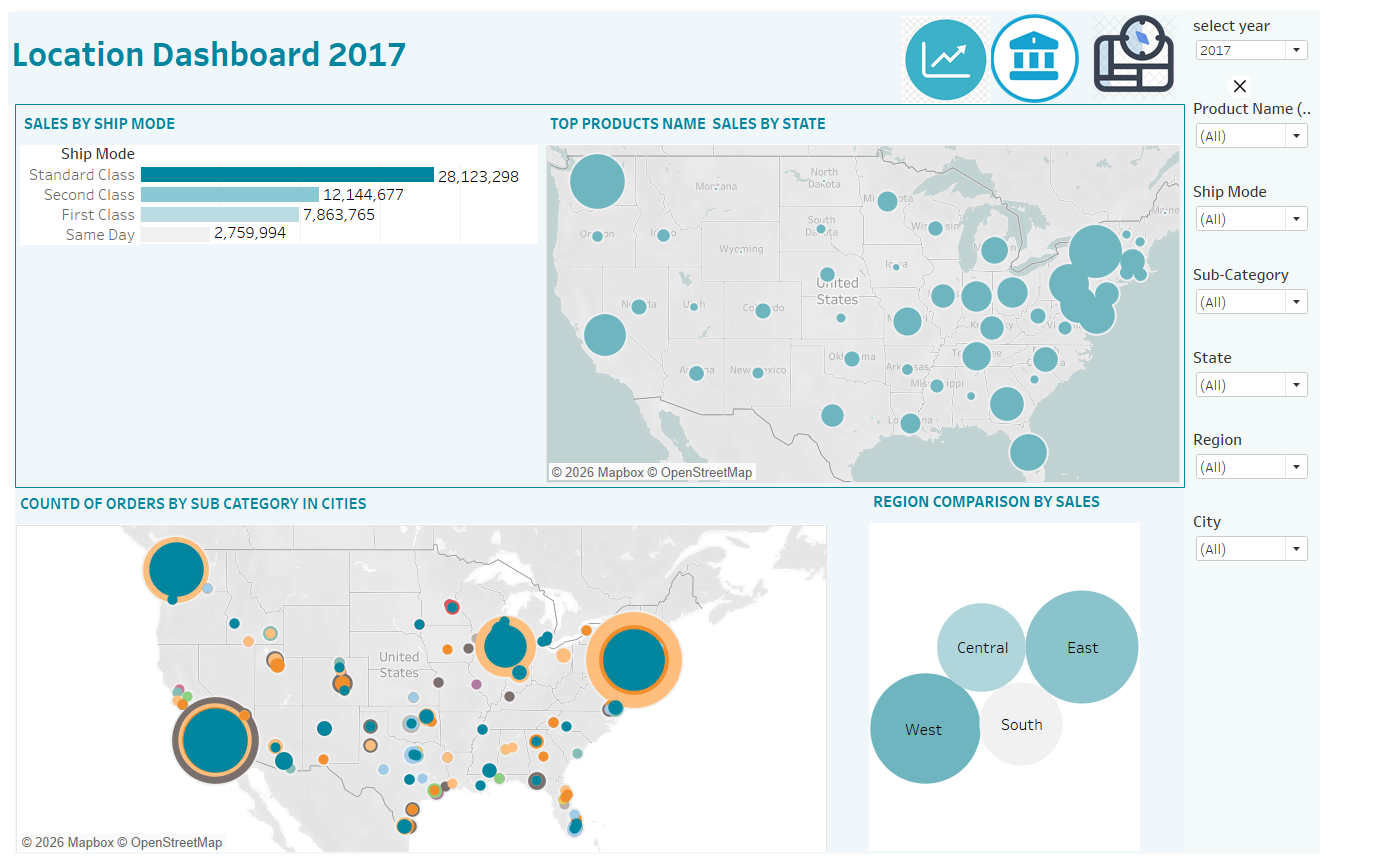

The dashboard page shown, as its layout file describes it:
{"tool":"tableau","page":{"name":"location Dashboard ","canvas":[1000,1000],"units":"permille","ordinal":2},"visuals":[{"type":"parameter","param":"[Parameters].[Parameter 1]","box":[894.7,10,95.5,96]},{"type":"dashboard-object","box":[816.7,11.2,72.7,106]},{"type":"dashboard-object","box":[736.4,12.5,82.6,106]},{"type":"text","box":[0,13.7,440.9,89.8]},{"type":"dashboard-object","box":[675,15,69.7,103.5]},{"type":"dashboard-object","box":[922.7,82.3,18.2,29.9]},{"type":"filter","title":"SALES BY SHIP MODE ","param":"[federated.0tfaefm1ft650711id79g0emtrgj].[none:Product Name (Product.csv1):nk]","box":[894.7,106,95.5,96]},{"type":"worksheet","title":"SALES BY SHIP MODE ","mark":"Automatic","rows":["Ship Mode"],"cols":["Customer ID"],"box":[6.1,119.7,398.5,443.9]},{"type":"worksheet","title":"top products by state","mark":"Automatic","box":[404.5,119.7,486.4,443.9]},{"type":"filter","title":"SALES BY SHIP MODE ","param":"[federated.0tfaefm1ft650711id79g0emtrgj].[none:Ship Mode:nk]","box":[894.7,202,95.5,96]},{"type":"filter","title":"SALES BY SHIP MODE ","param":"[federated.0tfaefm1ft650711id79g0emtrgj].[none:Sub-Category:nk]","box":[894.7,298,95.5,96]},{"type":"filter","title":"SALES BY SHIP MODE ","param":"[federated.0tfaefm1ft650711id79g0emtrgj].[none:State:nk]","box":[894.7,394,95.5,96]},{"type":"filter","title":"SALES BY SHIP MODE ","param":"[federated.0tfaefm1ft650711id79g0emtrgj].[none:Region:nk]","box":[894.7,490,95.5,96]},{"type":"worksheet","title":"REGION COMPARISON BY SALES IN FIRST 6 MONTHS ","mark":"Circle","box":[652.3,563.6,237.1,423.9]},{"type":"worksheet","title":"COUNTD OF ORDERS BY SUB CATEGORY IN CITIES","mark":"Circle","box":[6.1,566.1,614.4,422.7]},{"type":"filter","title":"SALES BY SHIP MODE ","param":"[federated.0tfaefm1ft650711id79g0emtrgj].[none:city:nk]","box":[894.7,586,95.5,96]}]}

Visuals, with their boxes on the dashboard's canvas, which has no fixed pixel size, in thousandths of its width and height (x1, y1, x2, y2). These are canvas units, not pixel positions in the 1399x863 screenshot, which may show the page scaled, cropped or inside an application window:
parameter: 895,10,990,106
dashboard-object: 817,11,889,117
dashboard-object: 736,12,819,118
text: 0,14,441,104
dashboard-object: 675,15,745,118
dashboard-object: 923,82,941,112
"SALES BY SHIP MODE " filter: 895,106,990,202
"SALES BY SHIP MODE " worksheet: 6,120,405,564
"top products by state" worksheet: 404,120,891,564
"SALES BY SHIP MODE " filter: 895,202,990,298
"SALES BY SHIP MODE " filter: 895,298,990,394
"SALES BY SHIP MODE " filter: 895,394,990,490
"SALES BY SHIP MODE " filter: 895,490,990,586
"REGION COMPARISON BY SALES IN FIRST 6 MONTHS " worksheet (Circle marks): 652,564,889,988
"COUNTD OF ORDERS BY SUB CATEGORY IN CITIES" worksheet (Circle marks): 6,566,620,989
"SALES BY SHIP MODE " filter: 895,586,990,682
